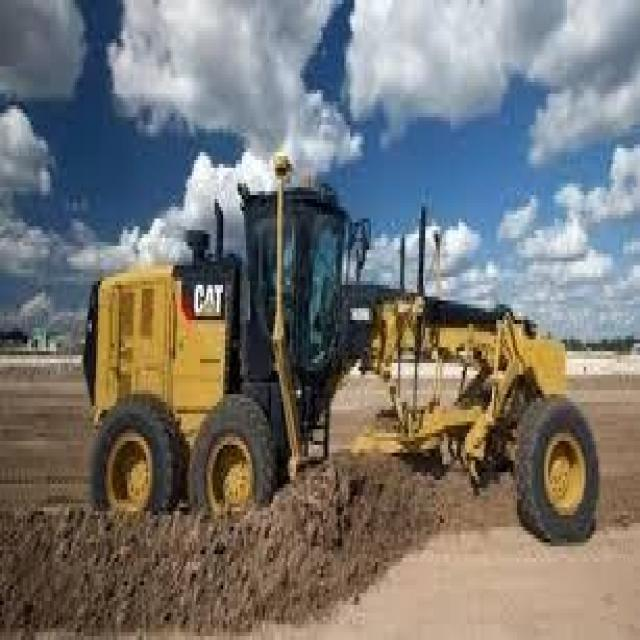Grader: (71, 148, 596, 578)
